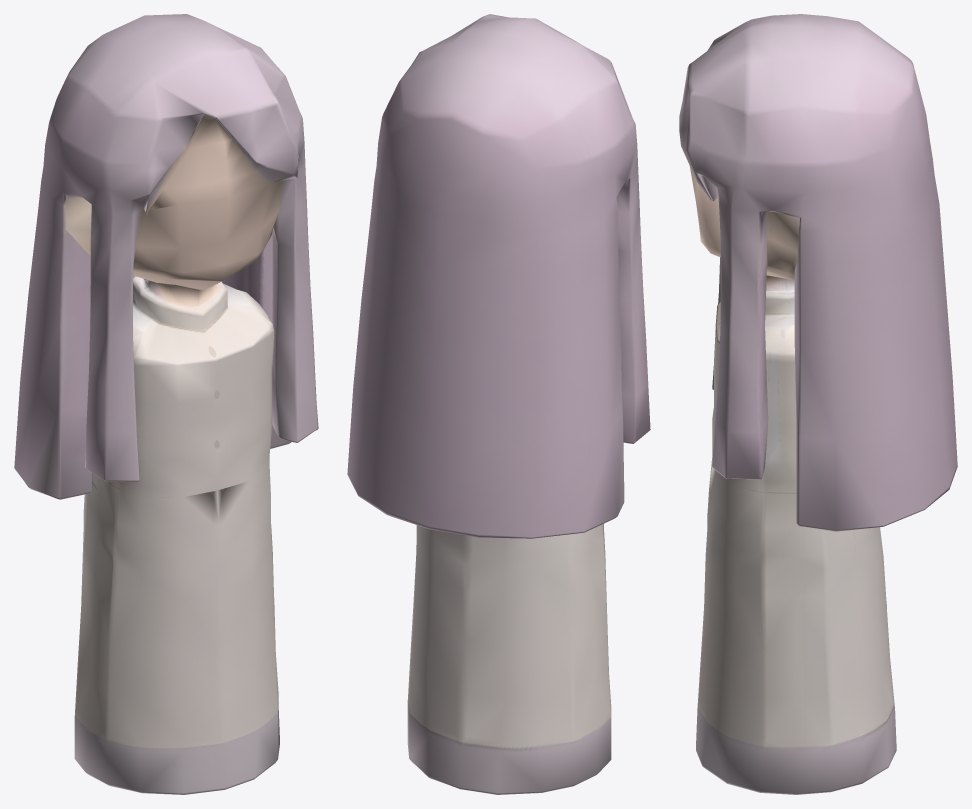
File: Meshy_AI_Lilac_Paper_Doll_0425081852_texture.fbx
3 renders of one model, left to right at view 1: azimuth 30°, elevation 25°; view 2: azimuth 150°, elevation 25°; view 3: azimuth 270°, elevation 25°, orthographic.
Visible parts, largest first — view 1: Mesh_0; view 2: Mesh_0; view 3: Mesh_0.
Boxes of the visible parts, x1=… form: Mesh_0: x1=14, y1=14, x2=318, y2=794; Mesh_0: x1=347, y1=14, x2=650, y2=794; Mesh_0: x1=679, y1=14, x2=957, y2=794.
Size of the model in its own units: 70.84 by 191 by 66.14.
1 material, 1 textured.
